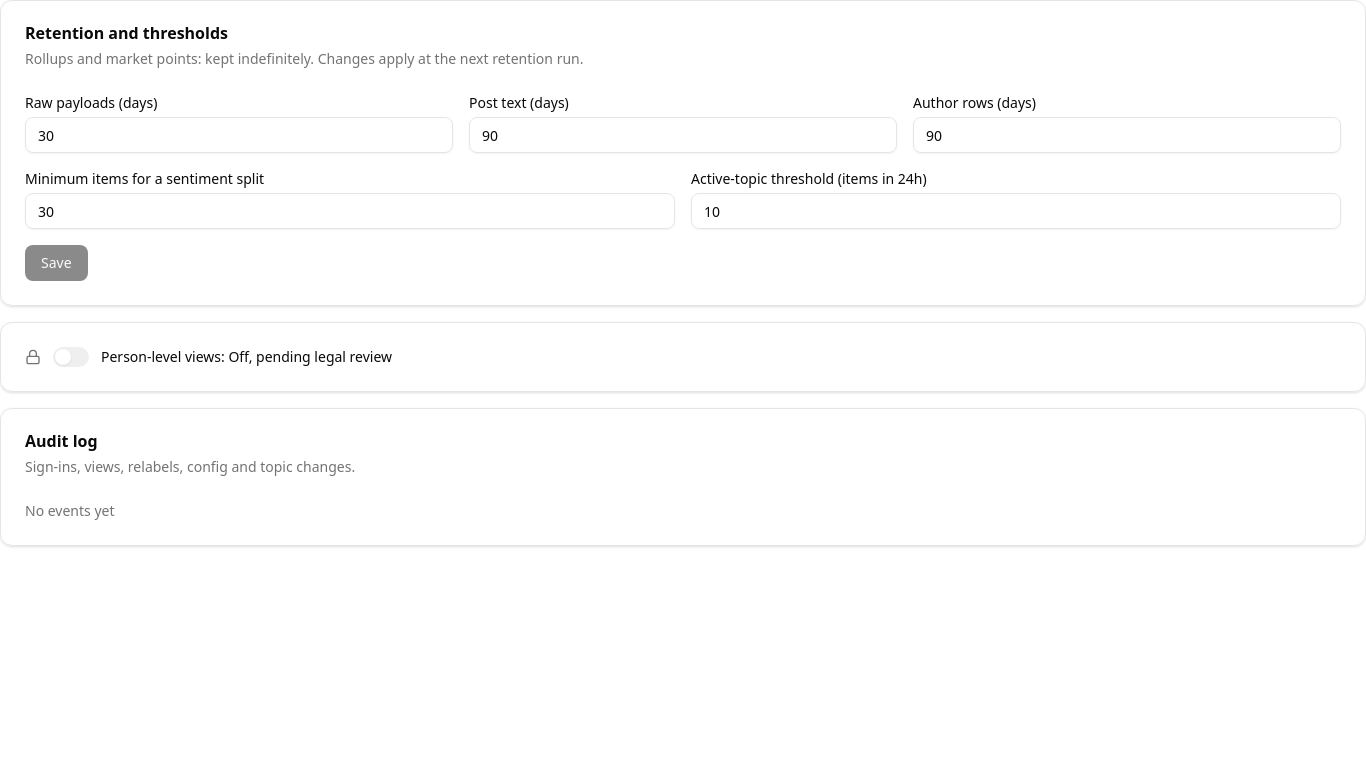
Test: AccessTab › validates retention inline and disables Save
Replace the text in the number field labelled "Raw payloads (days)" with "120" at (239, 135), box [25,117,453,153]
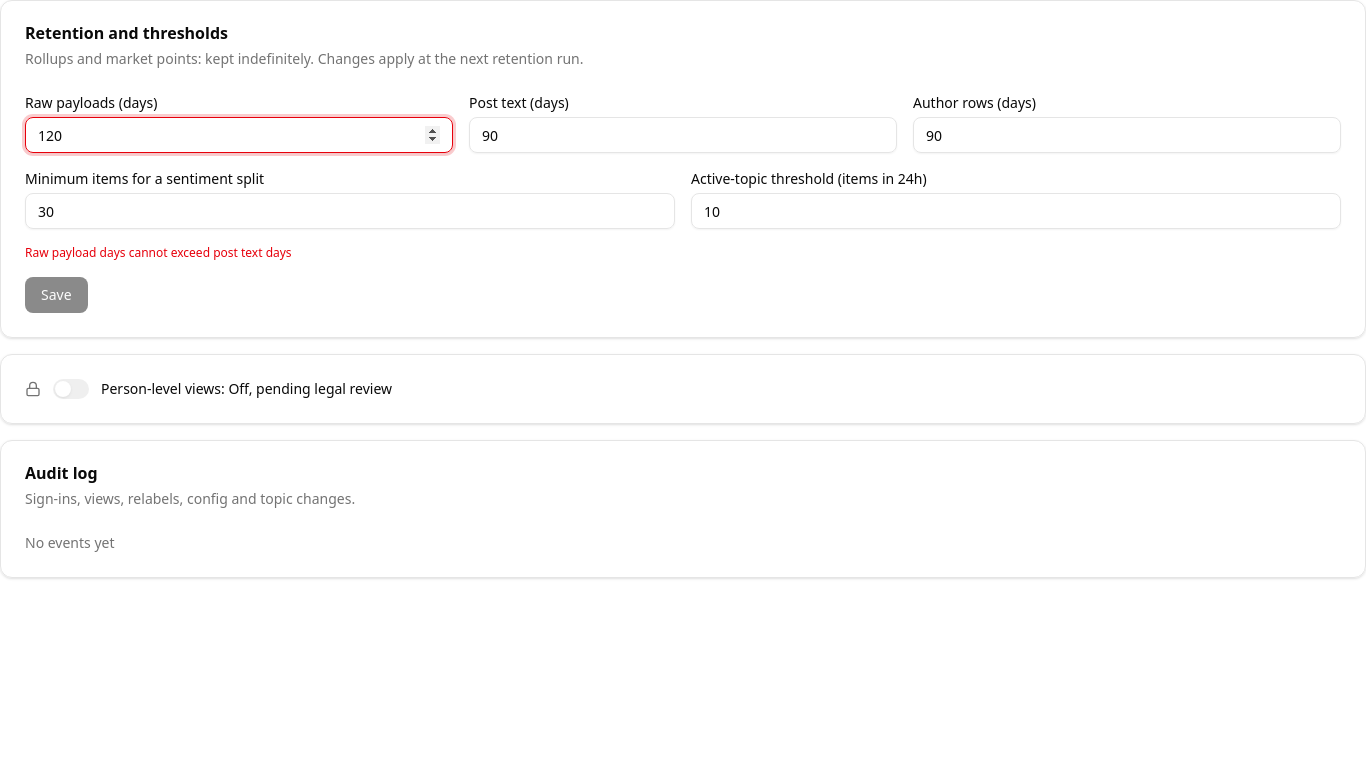
Expected: the button "Save" is disabled, [25,277,88,313]
Expected: the text "Raw payload days cannot exceed post text days" is shown, [25,244,292,261]
